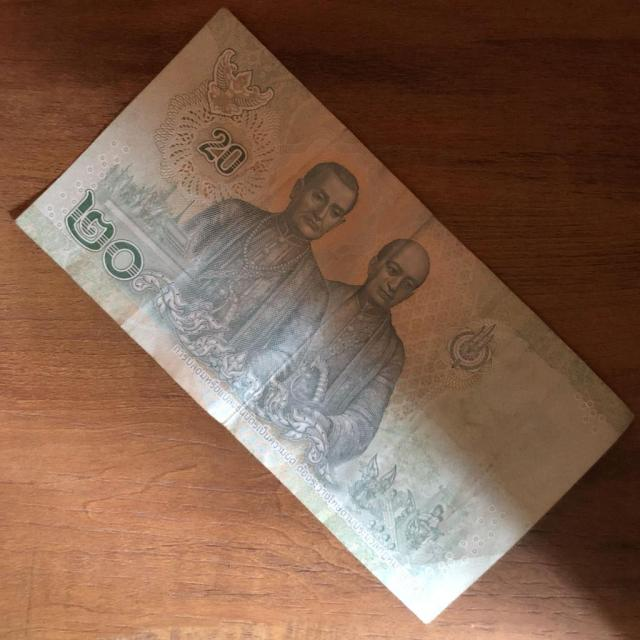THAI20: (18, 10, 632, 622)
